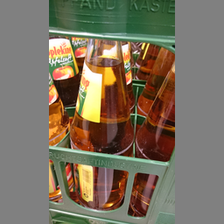juice: (67, 38, 134, 212), (130, 55, 172, 217)
